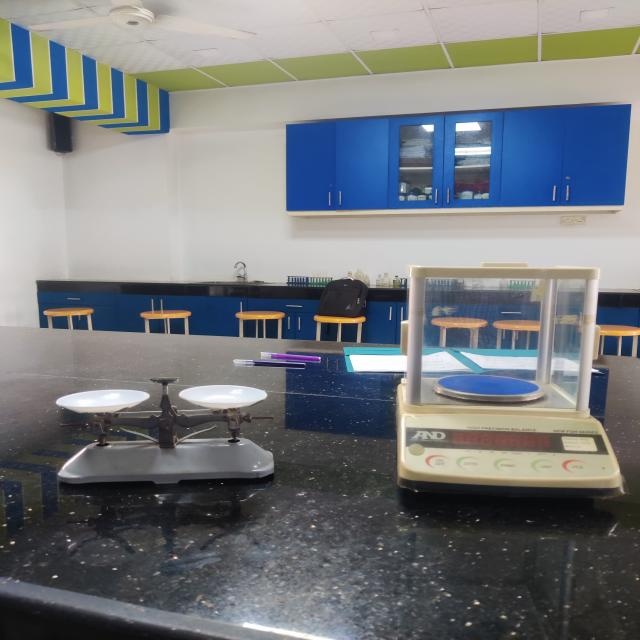Mechanical_Balance_Scale: (30, 362, 286, 496)
Precision_Weight_Scale: (382, 256, 628, 504)
